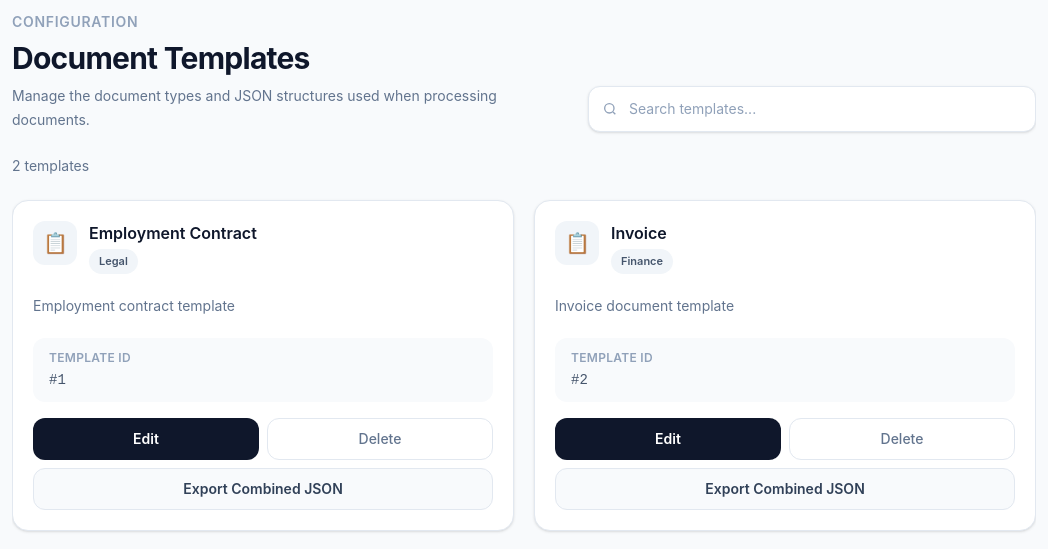
DocumentTypeList › clears the search
Expected: the heading "Invoice" is shown, [611,223,667,243]
Type "invoice" into the field with placeholder "Search templates..." at point(812, 109), box [588,86,1036,132]
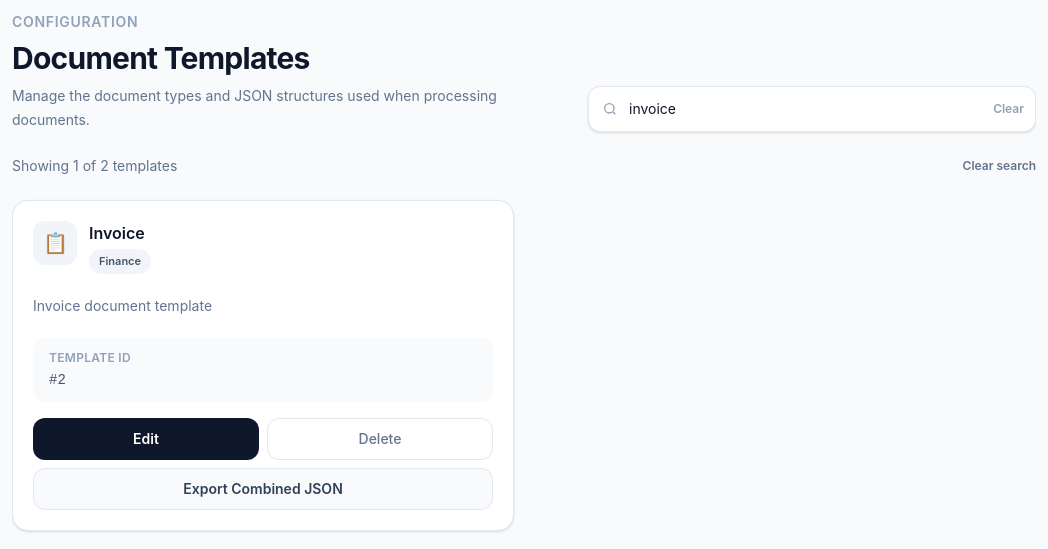
Now the heading "Employment Contract" is gone
Click the button "Clear" at point(1009, 109), box [993,101,1024,117]
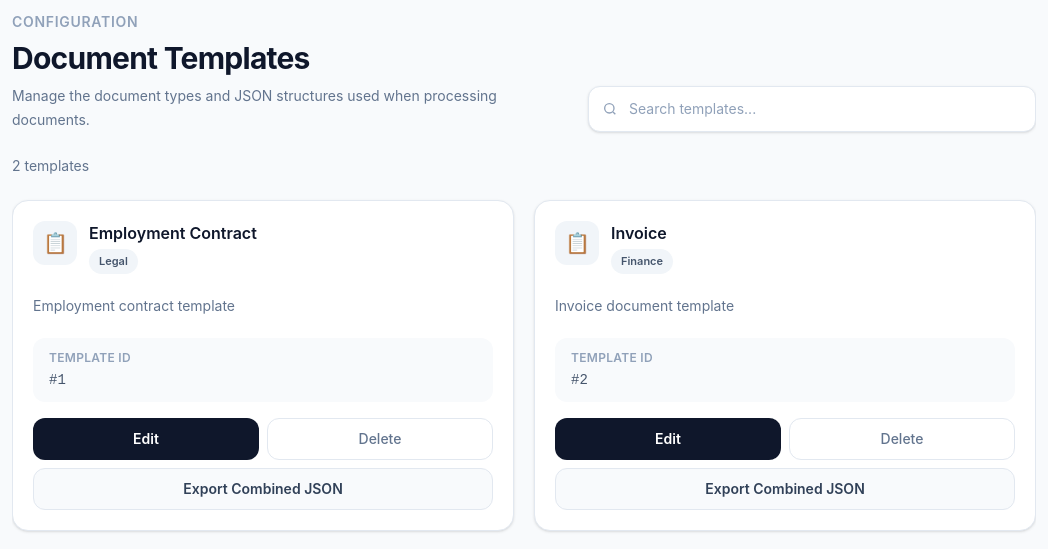
Expected: the heading "Invoice" is shown, [611,223,667,243]
Now the heading "Employment Contract" is shown, box [89,223,257,243]
